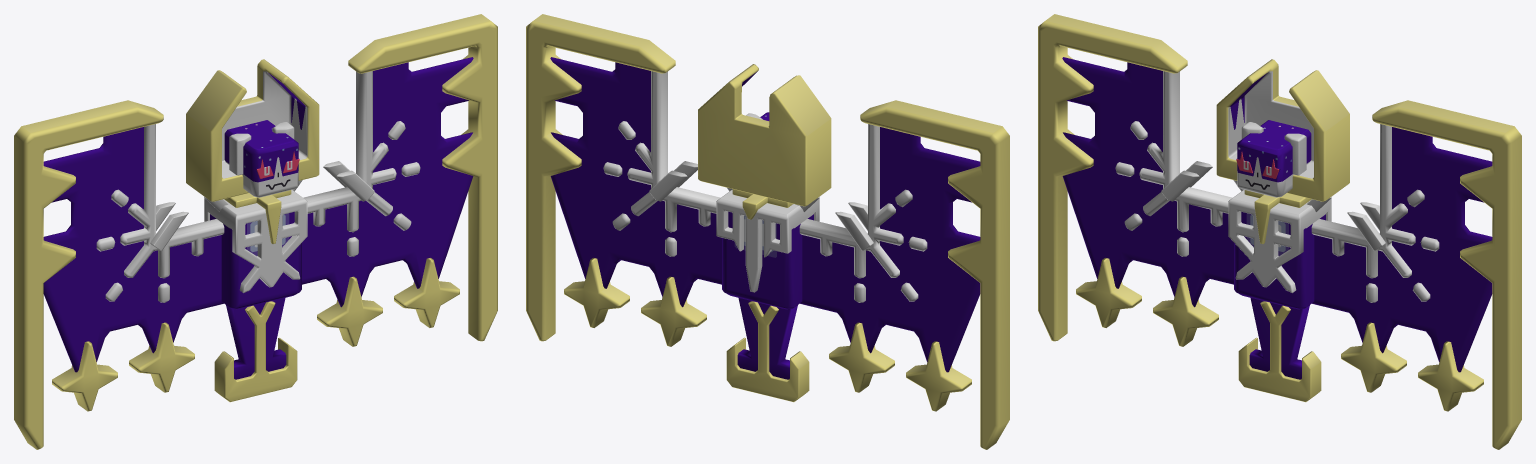
The picture shows the model from 3 angles, left to right: view 1: azimuth 30°, elevation 25°; view 2: azimuth 150°, elevation 25°; view 3: azimuth 330°, elevation 25°; orthographic projection.
Visible parts, largest first — view 1: model; view 2: model; view 3: model.
Part boxes in pixels (x1=…): model: x1=14, y1=14, x2=497, y2=449; model: x1=526, y1=14, x2=1009, y2=449; model: x1=1038, y1=14, x2=1521, y2=449.
Size of the model in its own units: 5.98 by 3.83 by 0.8999.
